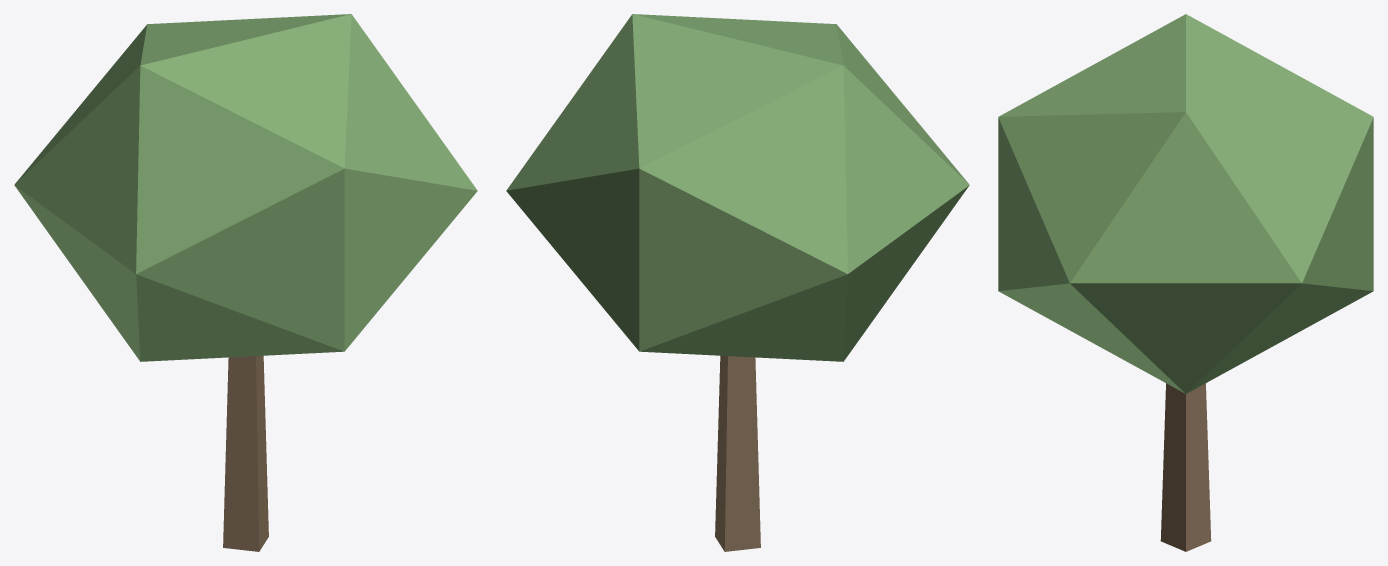
Rendered from tree_far.glb.
The picture shows the model from 3 angles, left to right: view 1: azimuth 30°, elevation 25°; view 2: azimuth 150°, elevation 25°; view 3: azimuth 270°, elevation 25°; orthographic projection. The views are drawn at different scales.
Parts seen in each view (by area): view 1: tree_far; view 2: tree_far; view 3: tree_far.
Boxes of the visible parts, x1,y1,x2,y2 form: tree_far: [14, 14, 477, 551]; tree_far: [506, 14, 969, 551]; tree_far: [998, 14, 1373, 551].
Size of the model in its own units: 2.98 by 4.18 by 2.98.
